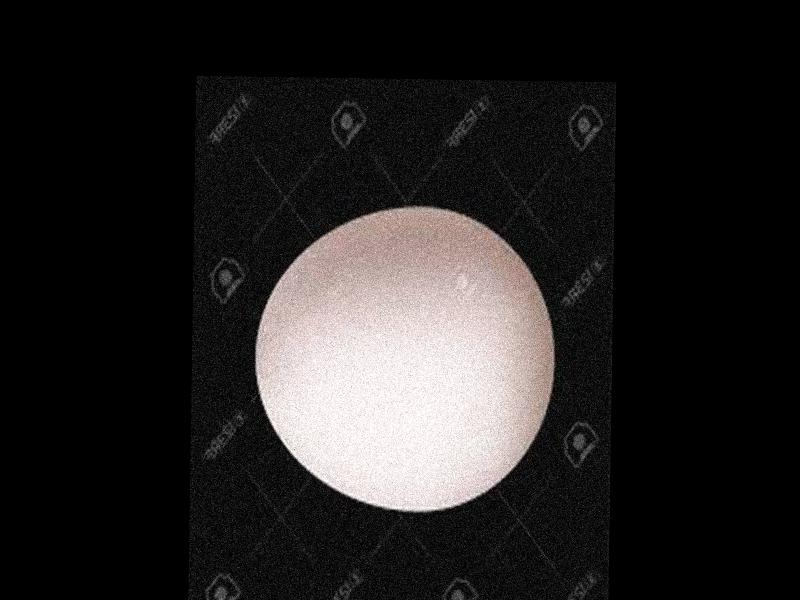Eggs: (255, 209, 554, 512)
